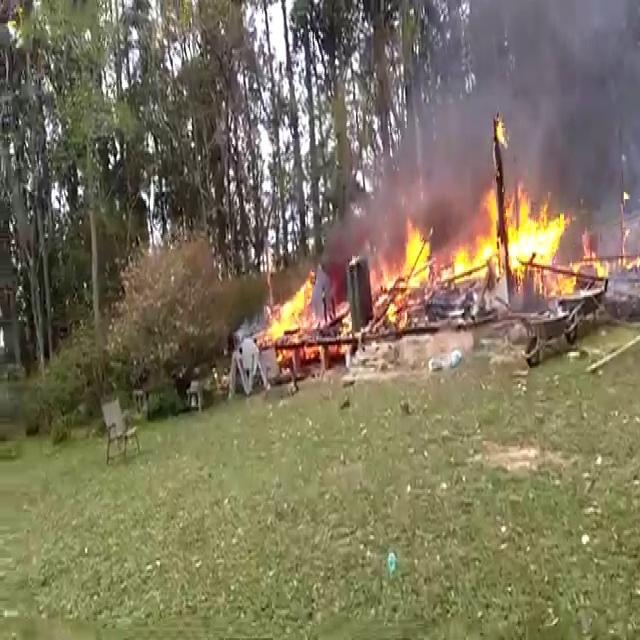Fire: (507, 226, 562, 265), (456, 233, 494, 278), (407, 234, 429, 286)
Smoke: (539, 26, 606, 184), (402, 138, 498, 208)
